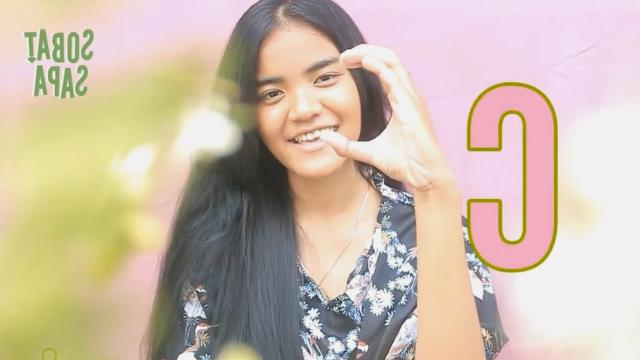C: (319, 43, 449, 206)
